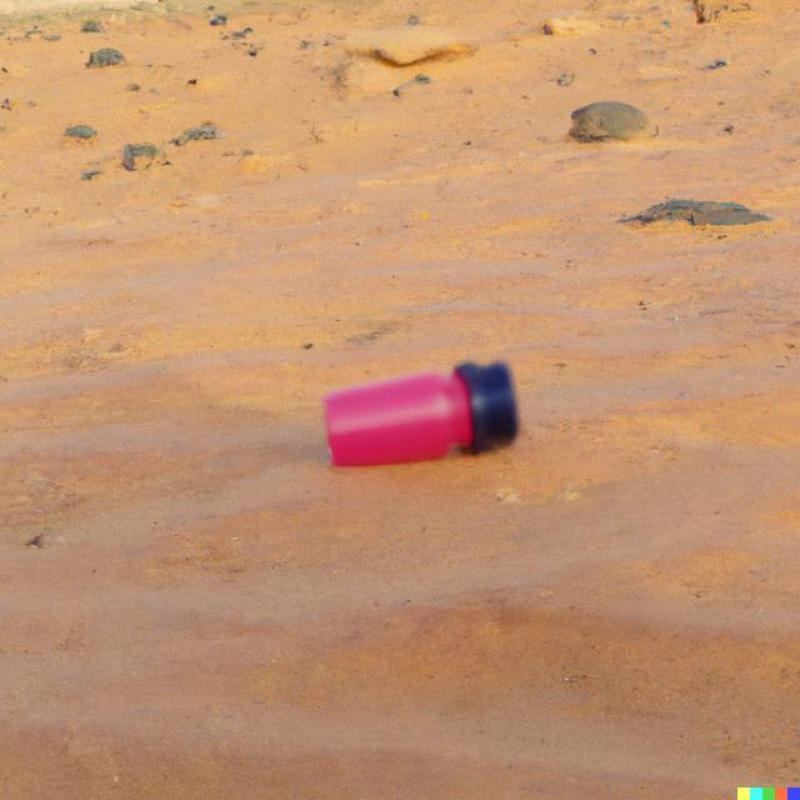botella: (321, 356, 518, 468)
